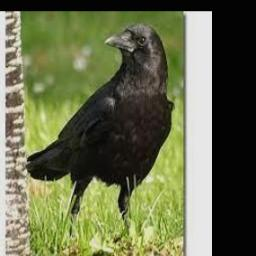Crow: (24, 21, 175, 256)
